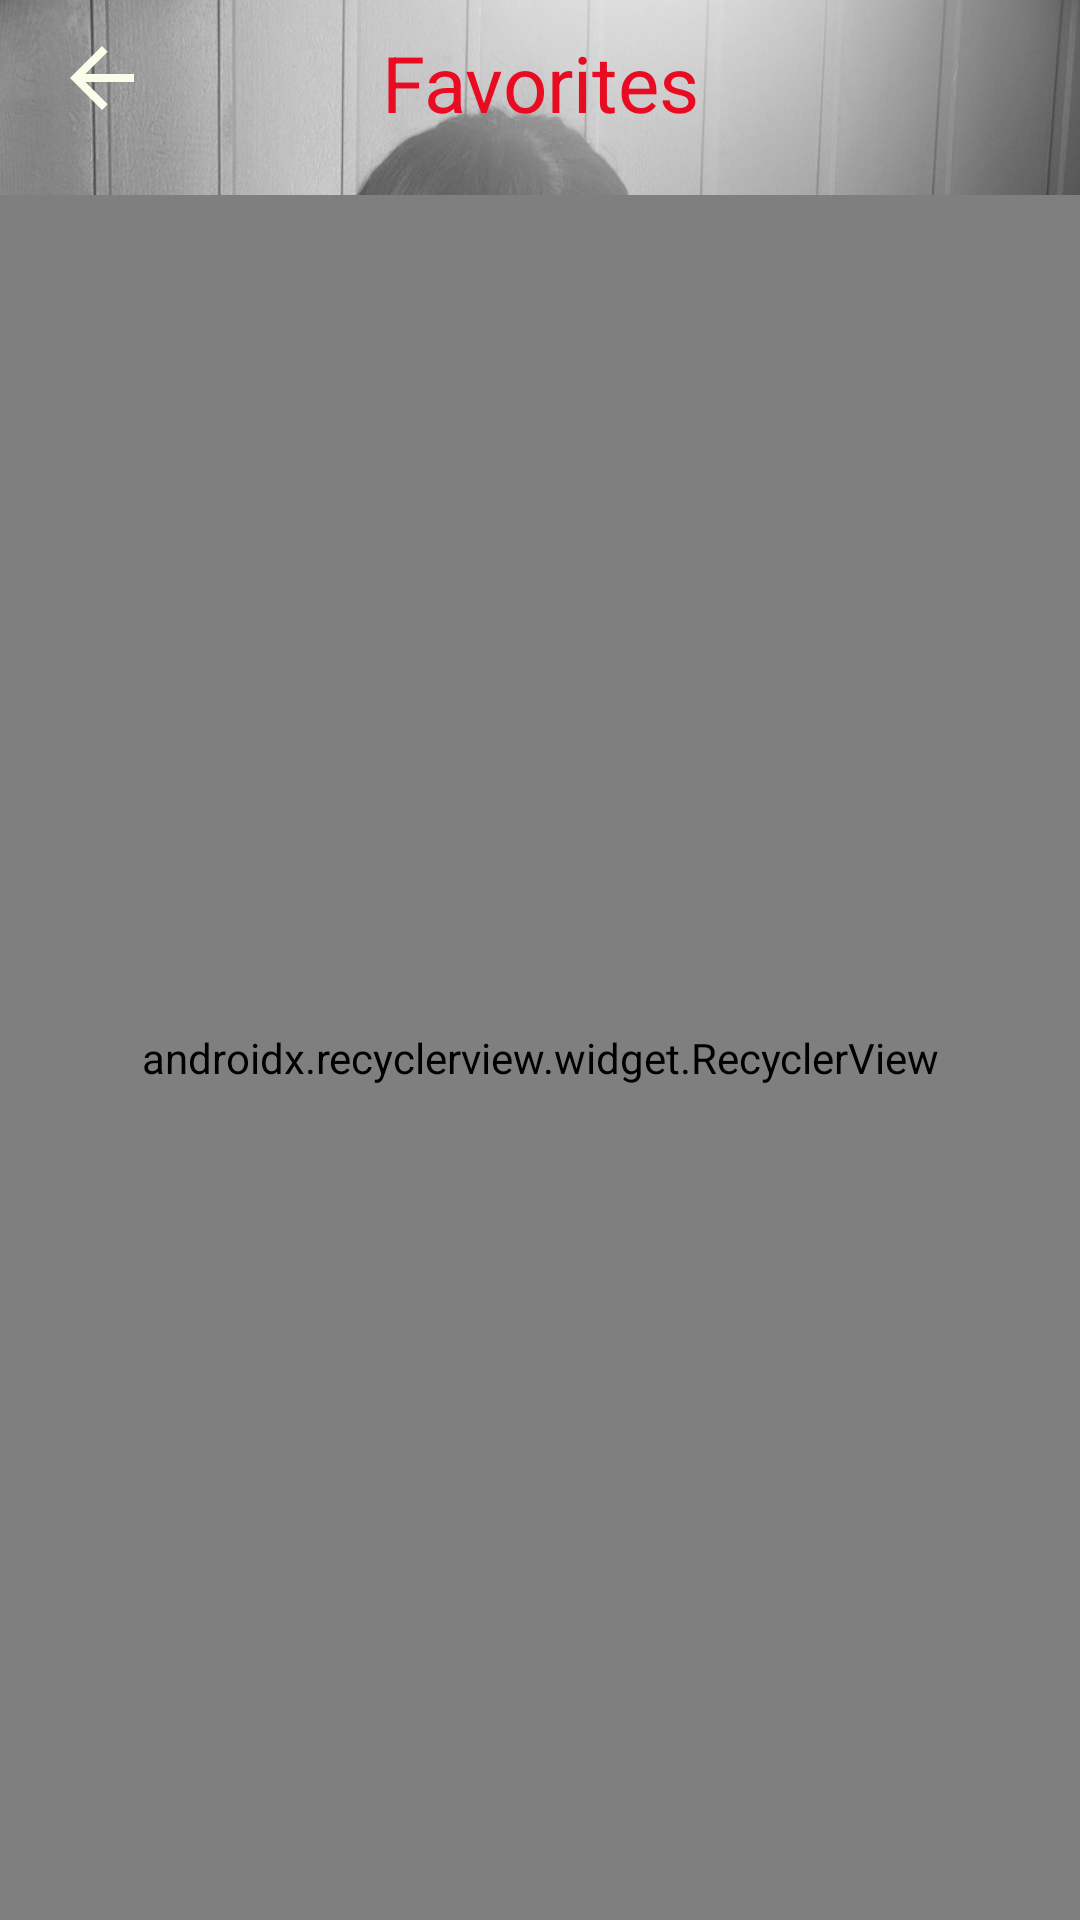

Named icons in this screenshot (1080 x 1920) and their bounding boxes, (x1, y1, x2, y2):
back: (57, 30, 134, 126)
